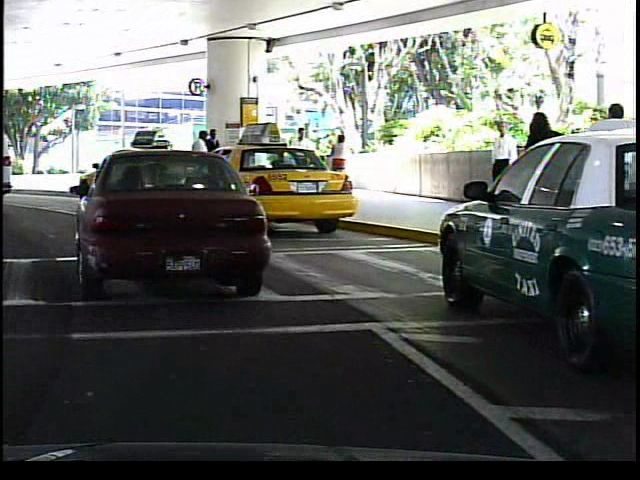person: (515, 107, 569, 254), (592, 96, 638, 253), (483, 114, 519, 218), (285, 123, 313, 193), (187, 129, 212, 196), (324, 130, 350, 190), (204, 126, 224, 193)
